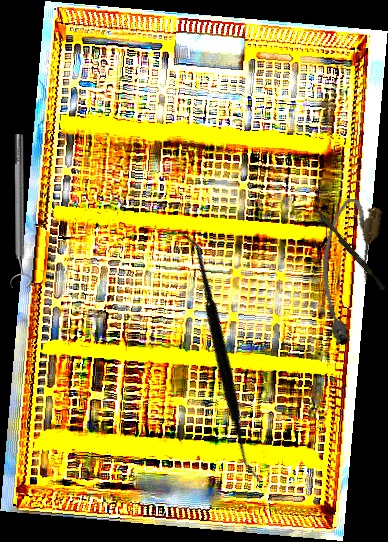Cannula: (306, 195, 385, 348)
Fixation Ring: (8, 134, 32, 288)
Pusher: (308, 204, 388, 291)
Spatula Surgical: (91, 228, 349, 484)
